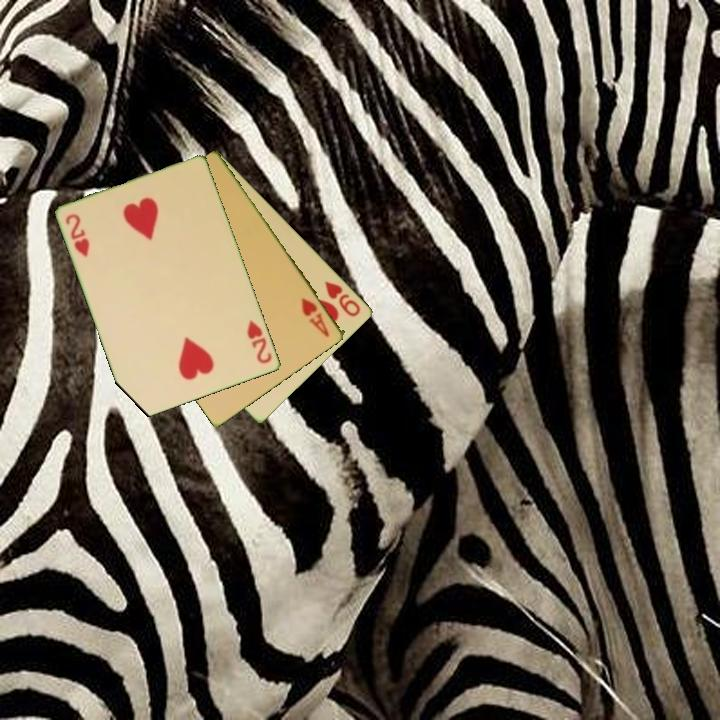2h: (244, 317, 275, 367), (62, 210, 93, 260)
9h: (322, 277, 364, 320)
Ah: (298, 294, 333, 340)
